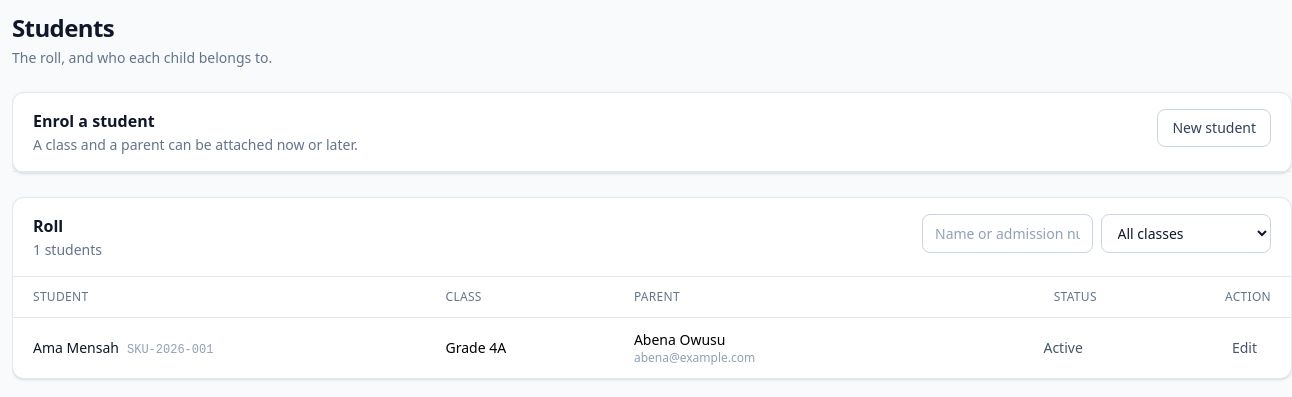
Scenario: editing a student › backs out of a withdrawal without saving
This screenshot has width=1292, height=397.
Expected: the link "Ama Mensah" is shown, x1=33 y1=338 x2=119 y2=357
Click the button "Active" at (1063, 348), box x1=1029 y1=330 x2=1097 y2=366
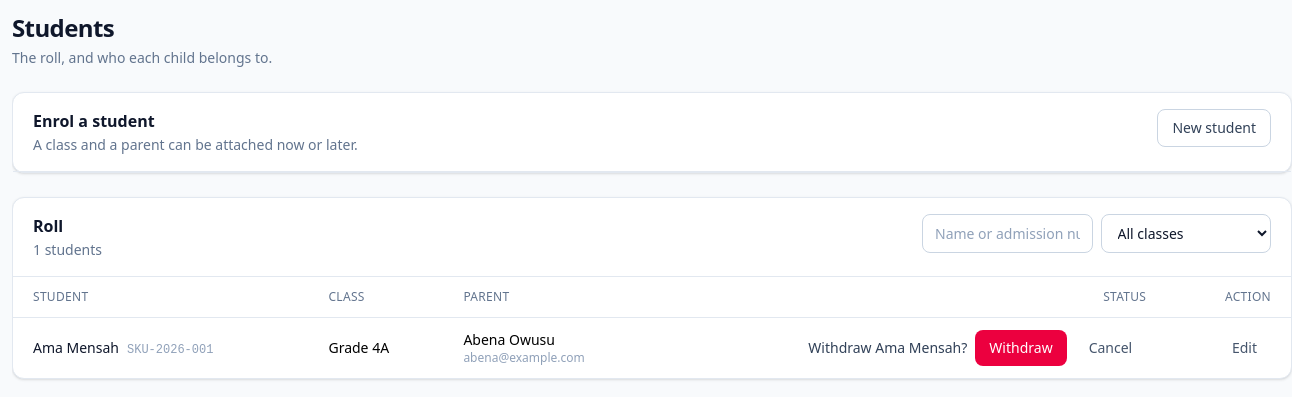
Click the button "Cancel" at (1110, 348), box x1=1075 y1=330 x2=1146 y2=366
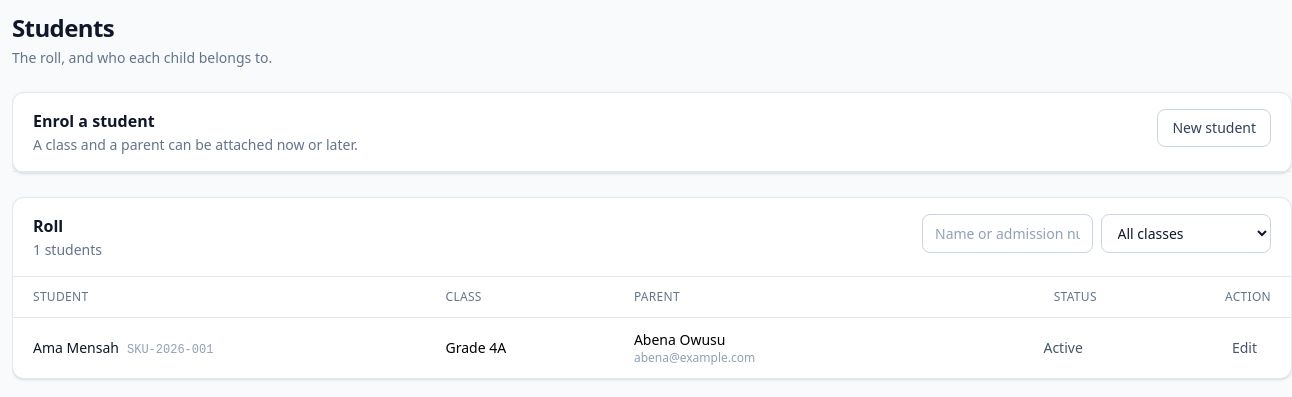
Expected: the button "Active" is shown, x1=1029 y1=330 x2=1097 y2=366
